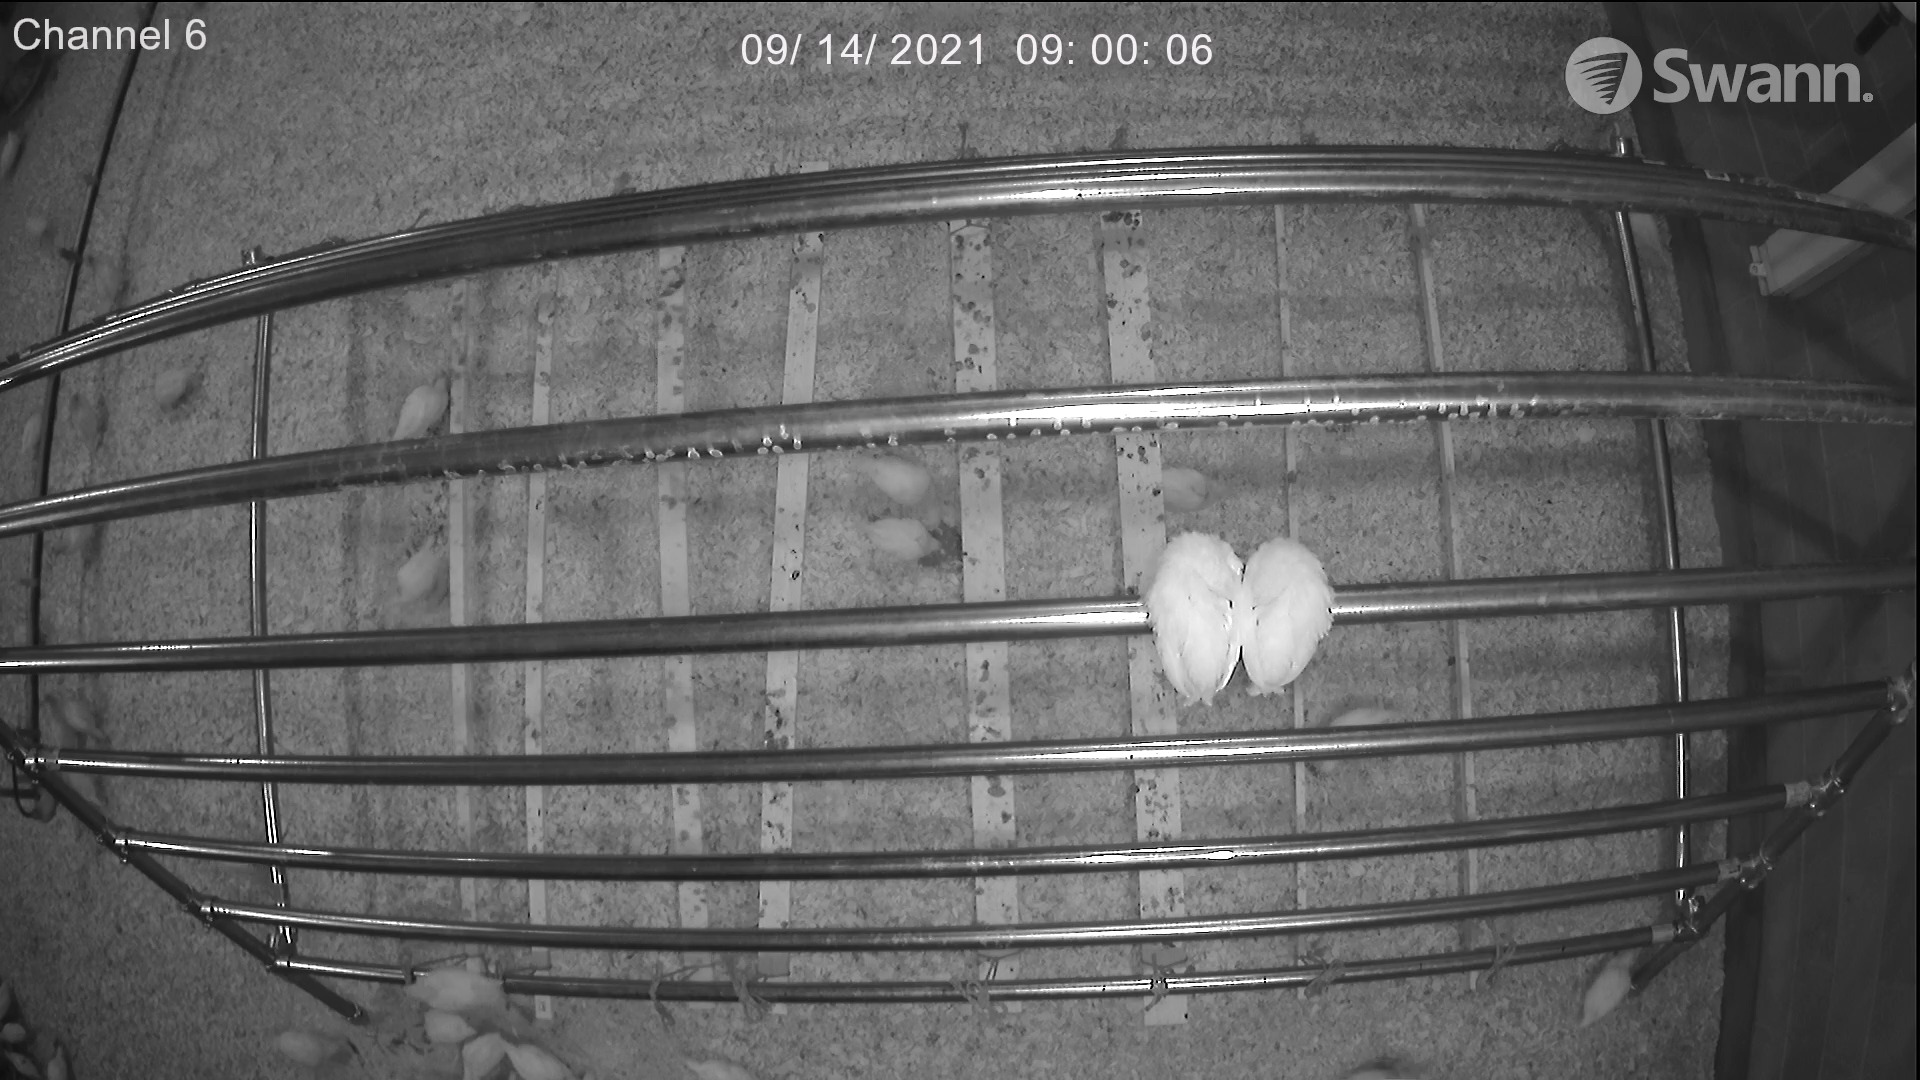Perching: (1071, 477, 1367, 729)
